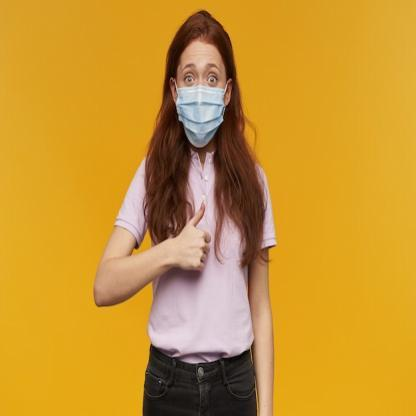thumb_up: (170, 198, 212, 274)
